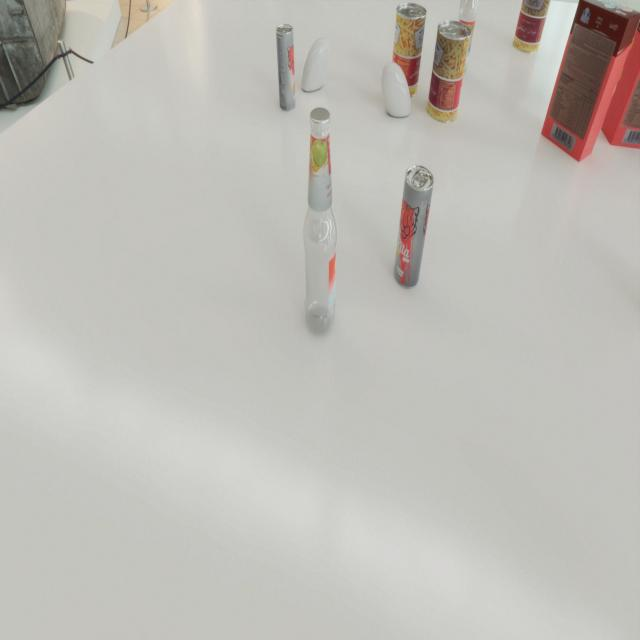Bottle: (302, 107, 338, 336)
HelloPanda: (541, 0, 640, 162)
Potato_sticks: (426, 20, 472, 123), (390, 3, 427, 98), (513, 0, 556, 54)
Rita_zero_sugar: (394, 165, 434, 289), (276, 24, 296, 111)
Salt: (381, 62, 411, 117), (301, 38, 329, 92)
